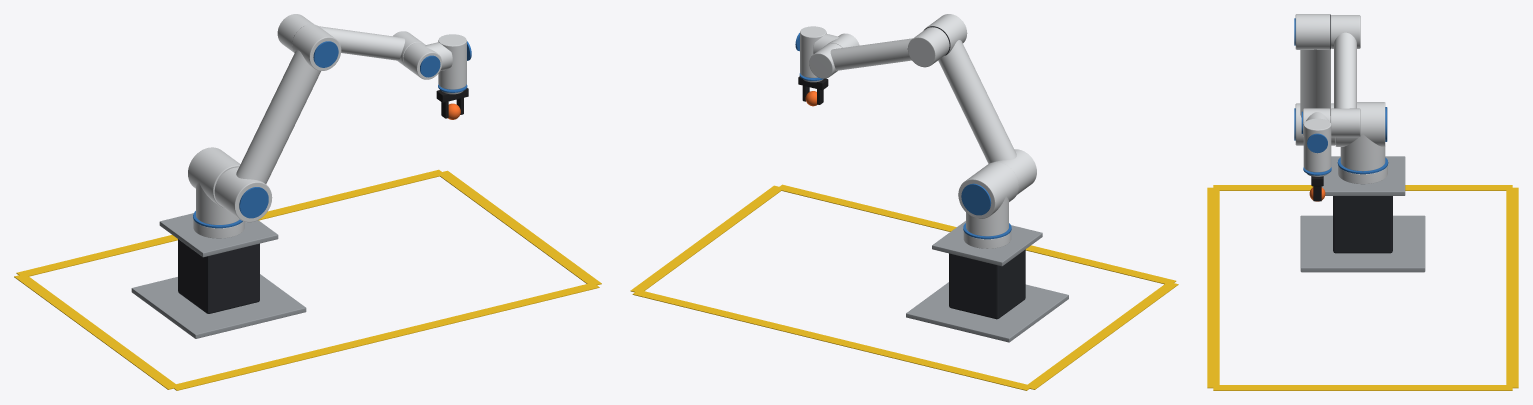
Rendered from RobotArm.glb.
The picture shows the model from 3 angles, left to right: view 1: azimuth 30°, elevation 25°; view 2: azimuth 150°, elevation 25°; view 3: azimuth 270°, elevation 25°; orthographic projection. The views are drawn at different scales.
Parts seen in each view (by area): view 1: Base, J2_Shoulder, J3_Elbow, J1_Base, J4_Wrist1, J5_Wrist2, J6_Wrist3; view 2: Base, J2_Shoulder, J3_Elbow, J1_Base, J5_Wrist2, J6_Wrist3, J4_Wrist1; view 3: Base, J2_Shoulder, J3_Elbow, J1_Base, J5_Wrist2, J4_Wrist1, J6_Wrist3.
Boxes of the visible parts, x1,y1,x2,y2 form: Base: (14, 169, 601, 390); J2_Shoulder: (214, 24, 341, 222); J3_Elbow: (277, 14, 423, 66); J1_Base: (188, 147, 240, 224); J4_Wrist1: (403, 42, 452, 79); J5_Wrist2: (438, 34, 471, 89); J6_Wrist3: (436, 84, 468, 118); Base: (630, 184, 1178, 390); J2_Shoulder: (923, 14, 1036, 194); J3_Elbow: (809, 26, 950, 78); J1_Base: (958, 162, 1018, 236); J5_Wrist2: (795, 26, 826, 77); J6_Wrist3: (798, 73, 828, 104); J4_Wrist1: (813, 33, 859, 53); Base: (1207, 156, 1518, 390); J2_Shoulder: (1294, 14, 1335, 145); J3_Elbow: (1330, 14, 1360, 137); J1_Base: (1335, 102, 1387, 171); J5_Wrist2: (1303, 118, 1331, 172); J4_Wrist1: (1301, 108, 1330, 136); J6_Wrist3: (1303, 167, 1331, 201).
Size of the model in its own units: 1.95 by 1.17 by 1.25.
